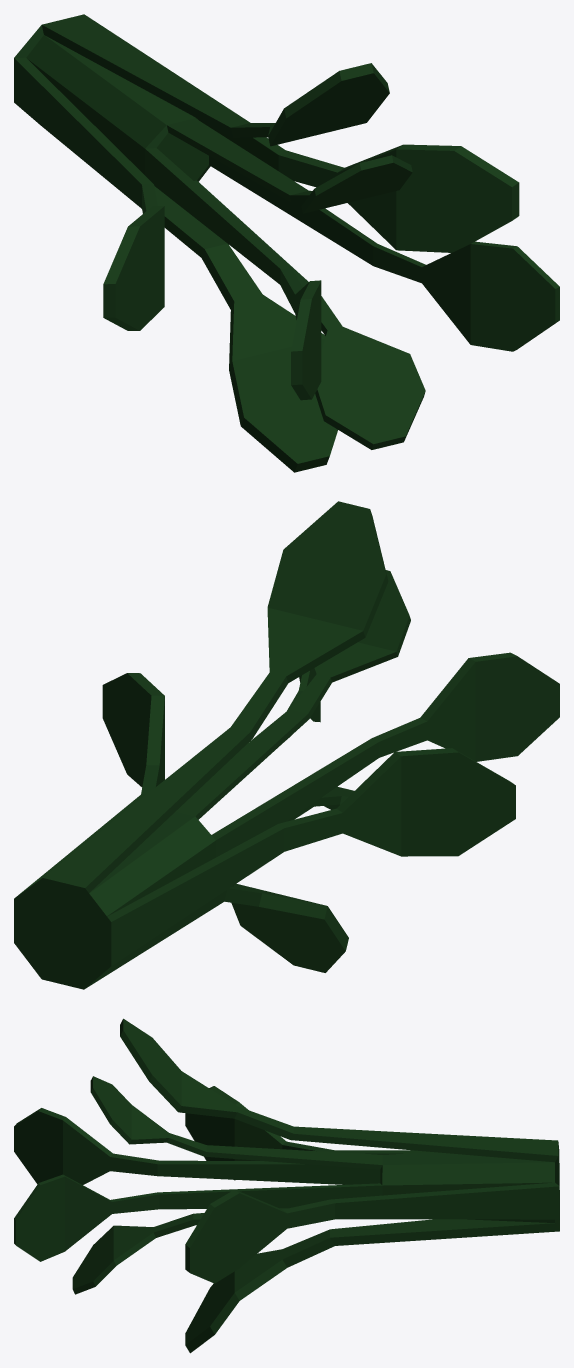
File: FreshBasil.obj
3 renders of one model, top to bottom at view 1: azimuth 30°, elevation 25°; view 2: azimuth 150°, elevation 25°; view 3: azimuth 270°, elevation 25°, orthographic. The views are drawn at different scales.
Parts seen in each view (by area): view 1: leek.002; view 2: leek.002; view 3: leek.002.
Part boxes in pixels (left/top/right/bottom): leek.002: left=14, top=14, right=559, bottom=472; leek.002: left=14, top=501, right=559, bottom=989; leek.002: left=14, top=1018, right=559, bottom=1353.
Bounding box in the file's own units: 0.1432 × 0.1429 × 0.2188.
